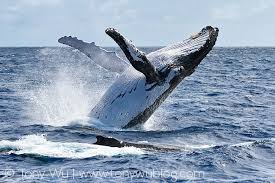humpback: (87, 24, 220, 128)
